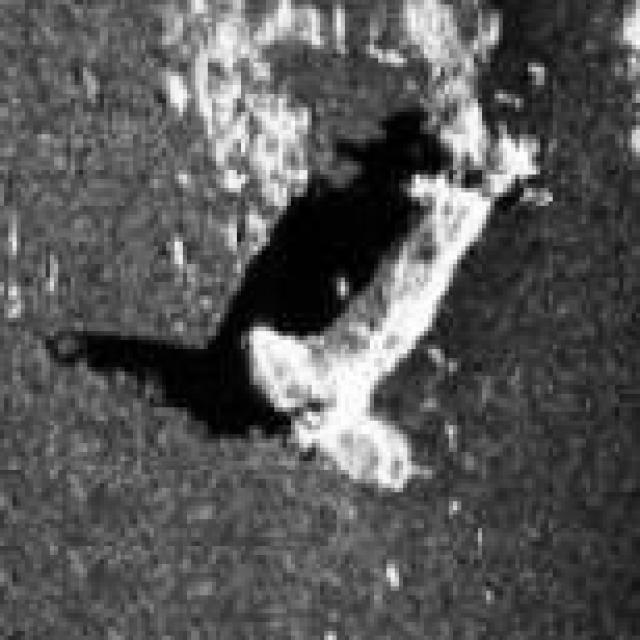plane: (175, 85, 552, 501)
